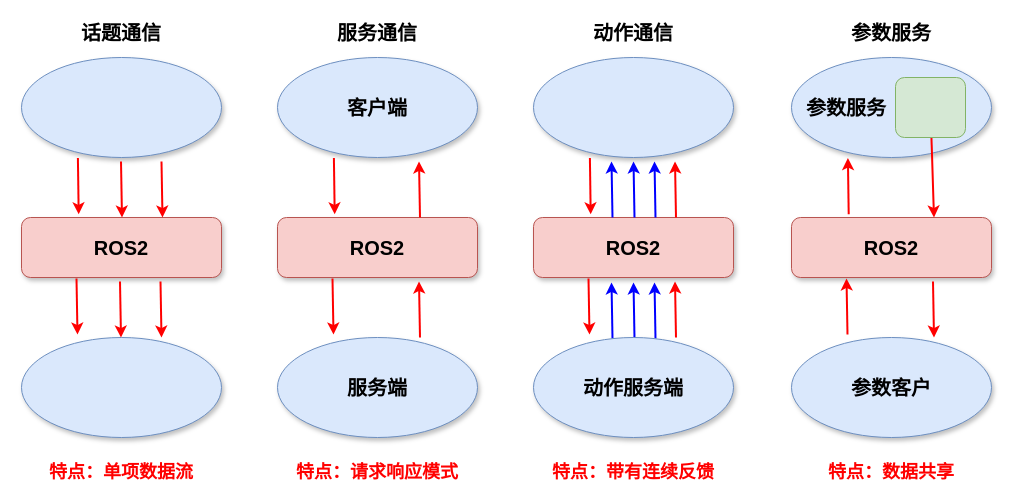
Image size: 1015x504. Some labels were removed from this diagram. Here are the shapes that lost their labels. From the top down, the centre of each, then its label:
At (122,108): "发布方".
At (634,108): "动作客户端".
At (930,107): "数据池".
At (122,388): "订阅方".
